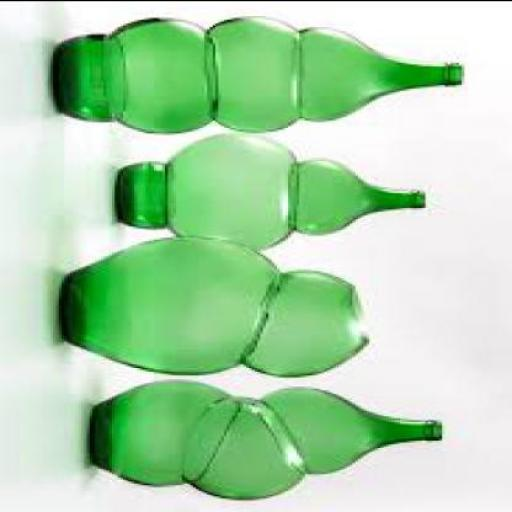glass: (56, 19, 465, 134), (62, 236, 375, 378), (87, 378, 445, 501), (118, 136, 431, 252)
